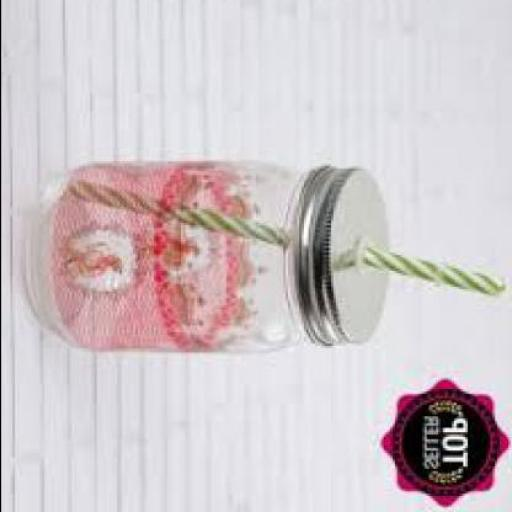glass: (18, 161, 309, 353)
metal: (300, 173, 389, 350)
